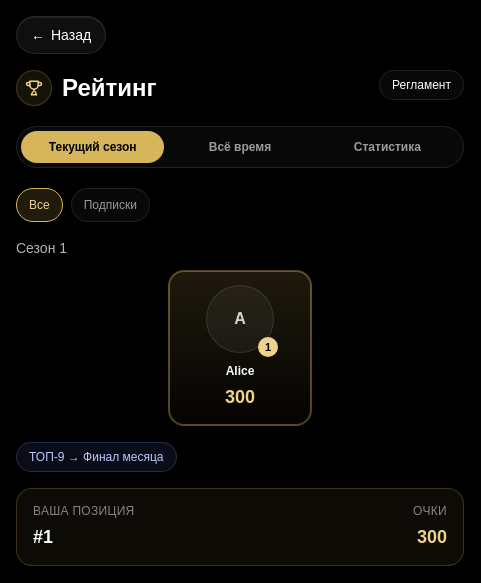
Test: Rating screen tabs (RELEASE C1) › All-time is unchanged: switching to it loads /api/leaderboard/all-time and shows the all-time rating
Click the button "Всё время" at [240, 147], box [168,131,312,163]
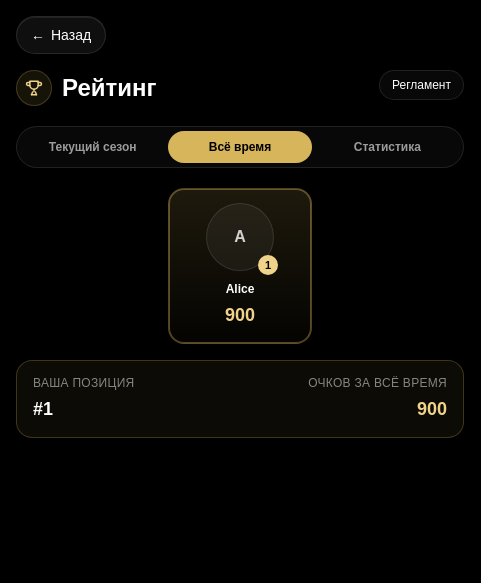
expect the text "900" is shown: met, box [225,301,255,329]
